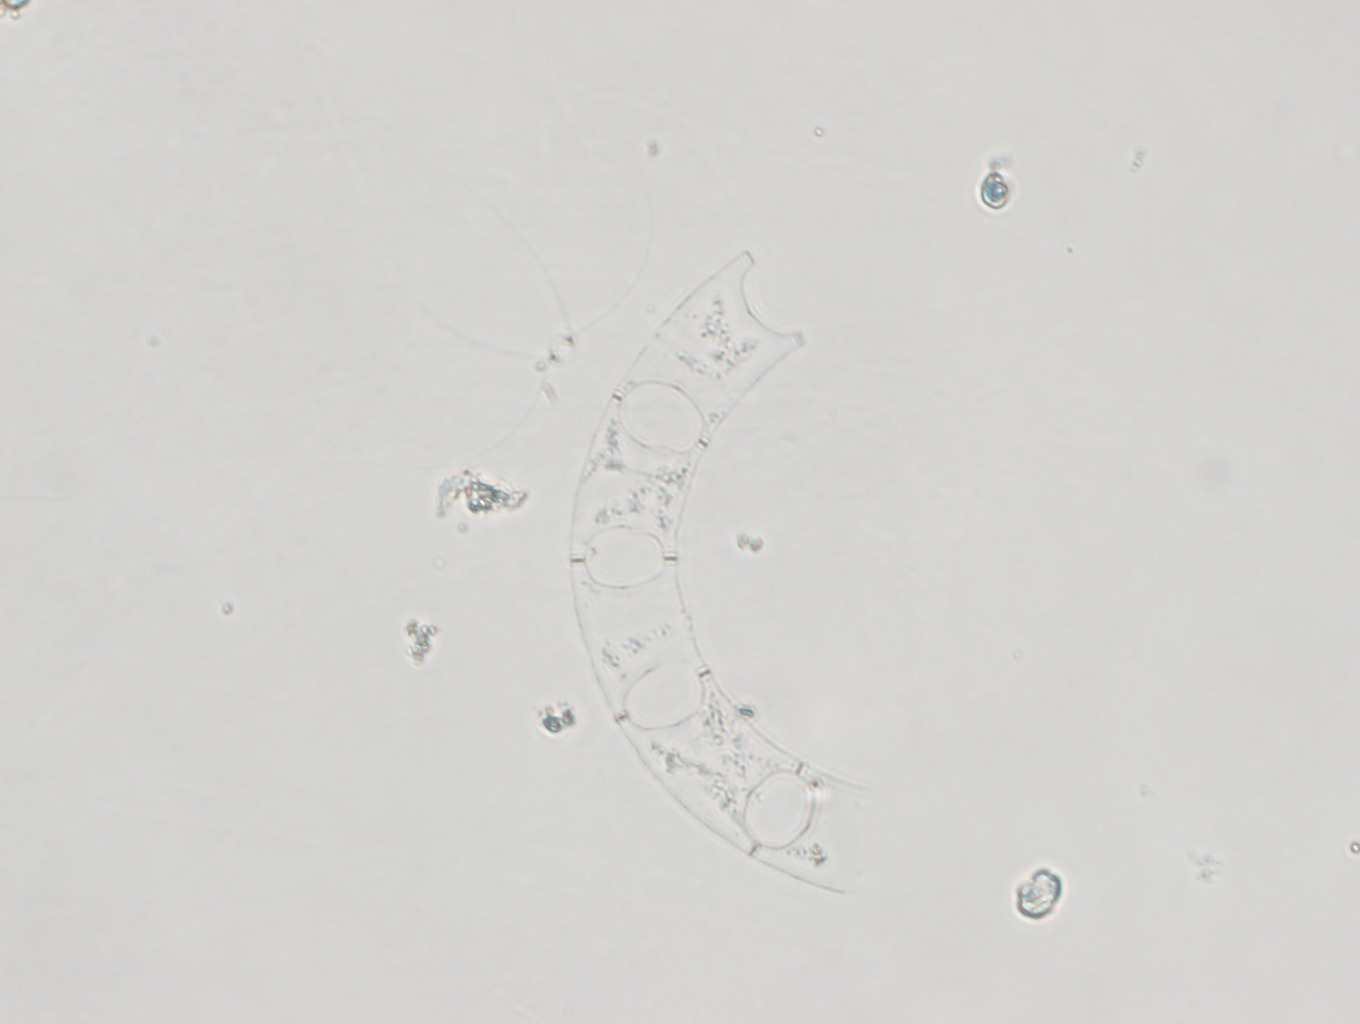eucampia: (566, 245, 881, 893)
